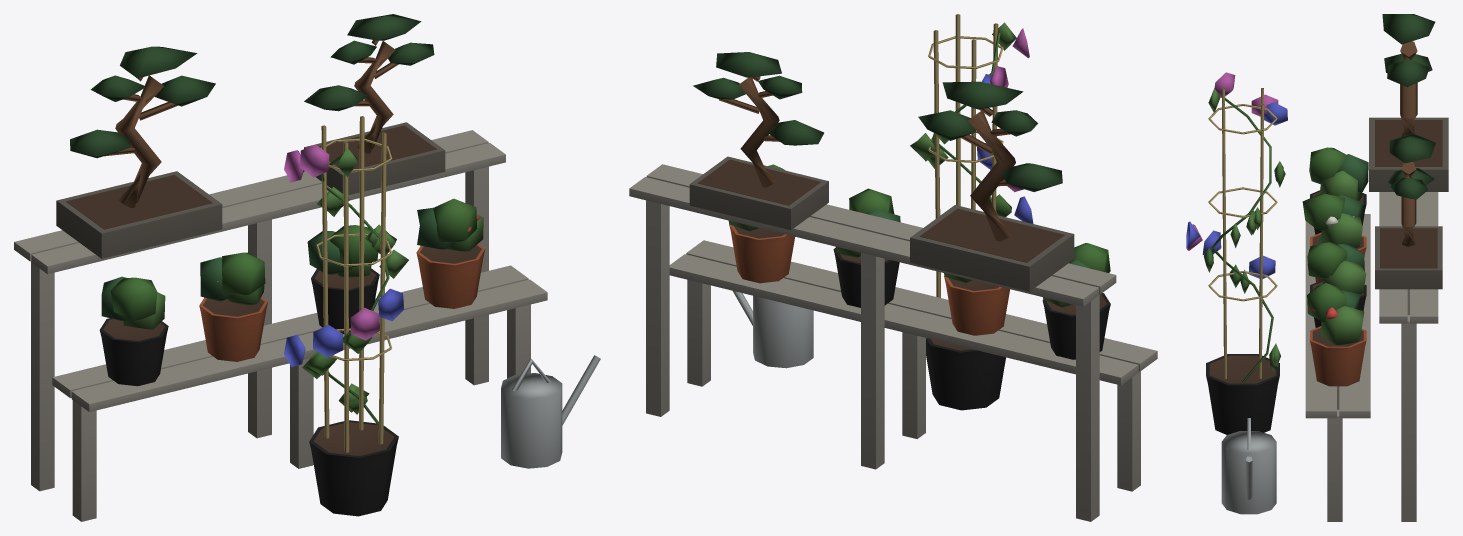
Rendered from PotShelfKM.fbx.
The picture shows the model from 3 angles, left to right: view 1: azimuth 30°, elevation 25°; view 2: azimuth 150°, elevation 25°; view 3: azimuth 270°, elevation 25°; orthographic projection. The views are drawn at different scales.
Parts seen in each view (by area): view 1: PotShelfKM; view 2: PotShelfKM; view 3: PotShelfKM.
Part boxes in pixels (left/top/right/bottom): PotShelfKM: left=14, top=14, right=600, bottom=521; PotShelfKM: left=629, top=14, right=1157, bottom=521; PotShelfKM: left=1186, top=14, right=1448, bottom=521.
Bounding box in the file's own units: 1.59 × 1.31 × 0.8549.
